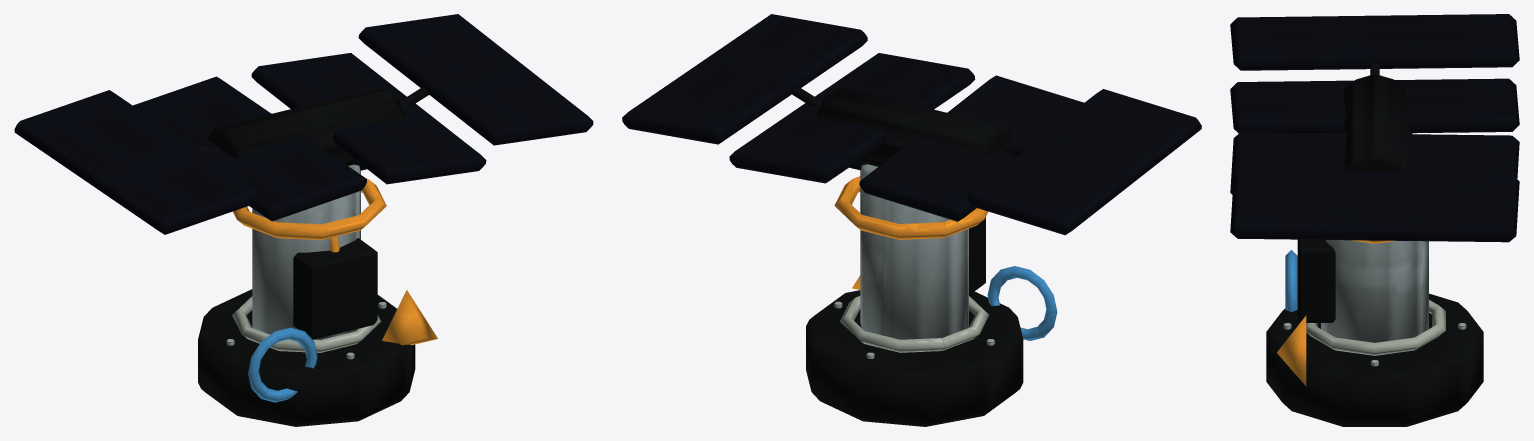
Rendered from solar-power-low.glb.
3 renders of one model, left to right at view 1: azimuth 30°, elevation 25°; view 2: azimuth 150°, elevation 25°; view 3: azimuth 270°, elevation 25°, orthographic.
Parts seen in each view (by area): view 1: ANIM_PANEL_LEFT_1.001, Solar_Base.001, ANIM_PANEL_RIGHT_1.001, ANIM_PANEL_RIGHT_0.001, ANIM_PANEL_LEFT_0.001, Solar_Service_Box.001, Solar_Hinge.001, Solar_Pedestal.001, Solar_Collar.001, PORT_Signal.006, Solar_Azimuth_Bearing.001, PORT_Power.007; view 2: Solar_Base.001, ANIM_PANEL_LEFT_1.001, ANIM_PANEL_RIGHT_1.001, Solar_Pedestal.001, ANIM_PANEL_RIGHT_0.001, ANIM_PANEL_LEFT_0.001, Solar_Hinge.001, Solar_Collar.001, Solar_Azimuth_Bearing.001, PORT_Signal.006, Solar_Service_Box.001; view 3: ANIM_PANEL_RIGHT_1.001, Solar_Base.001, ANIM_PANEL_LEFT_1.001, ANIM_PANEL_LEFT_0.001, Solar_Pedestal.001, ANIM_PANEL_RIGHT_0.001, Solar_Hinge.001, Solar_Service_Box.001, Solar_Azimuth_Bearing.001, PORT_Power.007, PORT_Signal.006.
Part boxes in pixels (box(x1,y1,x2,y2)): ANIM_PANEL_LEFT_1.001: box(14, 90, 259, 234); Solar_Base.001: box(198, 289, 415, 426); ANIM_PANEL_RIGHT_1.001: box(358, 14, 593, 145); ANIM_PANEL_RIGHT_0.001: box(251, 53, 486, 184); ANIM_PANEL_LEFT_0.001: box(133, 76, 366, 221); Solar_Service_Box.001: box(293, 238, 377, 339); Solar_Hinge.001: box(207, 88, 405, 170); Solar_Pedestal.001: box(252, 164, 360, 339); Solar_Collar.001: box(233, 179, 386, 240); PORT_Signal.006: box(248, 327, 317, 402); Solar_Azimuth_Bearing.001: box(232, 296, 381, 352); PORT_Power.007: box(382, 290, 437, 345); Solar_Base.001: box(806, 290, 1023, 426); ANIM_PANEL_LEFT_1.001: box(966, 89, 1201, 235); ANIM_PANEL_RIGHT_1.001: box(622, 14, 867, 144); Solar_Pedestal.001: box(860, 164, 968, 339); ANIM_PANEL_RIGHT_0.001: box(729, 53, 975, 183); ANIM_PANEL_LEFT_0.001: box(859, 75, 1083, 221); Solar_Hinge.001: box(815, 87, 1013, 170); Solar_Collar.001: box(834, 176, 988, 239); Solar_Azimuth_Bearing.001: box(840, 296, 988, 352); PORT_Signal.006: box(987, 266, 1057, 340); Solar_Service_Box.001: box(969, 217, 985, 294); ANIM_PANEL_RIGHT_1.001: box(1230, 171, 1519, 242); Solar_Base.001: box(1266, 293, 1483, 426); ANIM_PANEL_LEFT_1.001: box(1230, 14, 1519, 70); ANIM_PANEL_LEFT_0.001: box(1230, 78, 1519, 133); Solar_Pedestal.001: box(1321, 240, 1428, 342); ANIM_PANEL_RIGHT_0.001: box(1230, 132, 1519, 194); Solar_Hinge.001: box(1338, 75, 1412, 172); Solar_Service_Box.001: box(1297, 239, 1335, 322); Solar_Azimuth_Bearing.001: box(1306, 300, 1445, 355); PORT_Power.007: box(1277, 315, 1306, 386); PORT_Signal.006: box(1285, 250, 1297, 312).
Bounding box in the file's own units: 1.3 × 0.758 × 0.7276.
6 materials, 6 textured.
